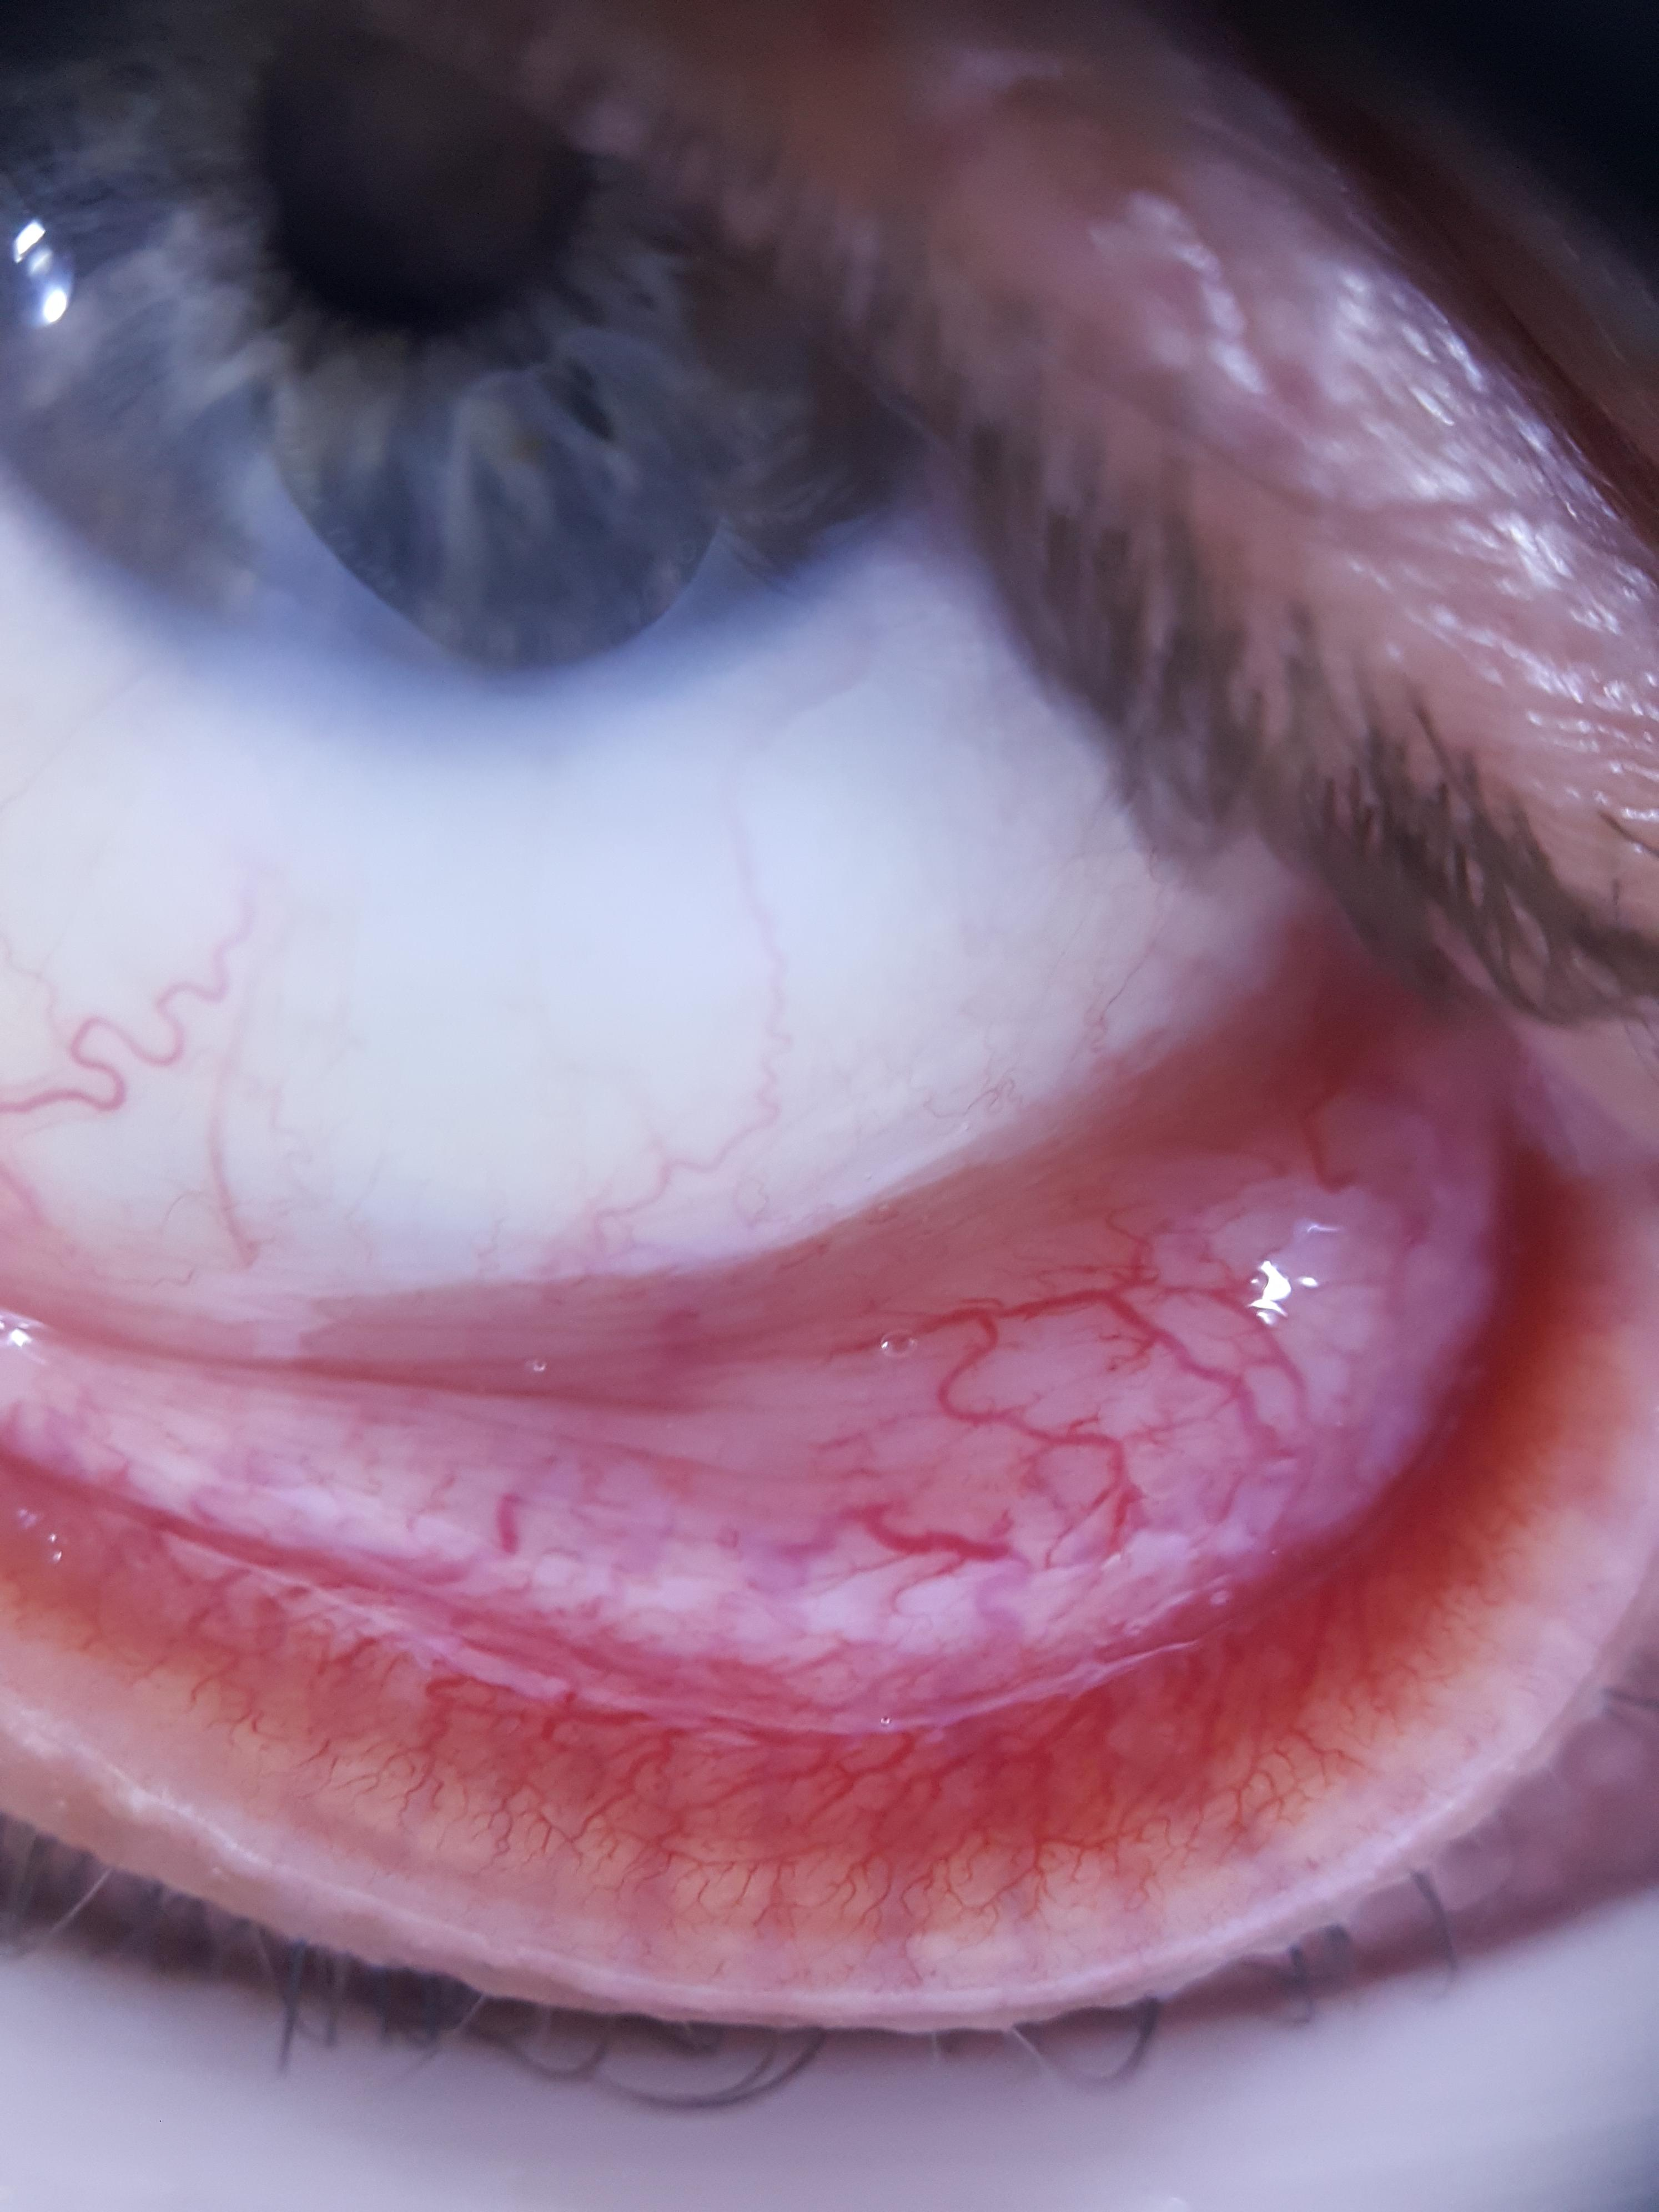forniceal: (0, 941, 1521, 1719)
forniceal_palpebral: (0, 907, 1575, 1907)
palpebral: (0, 1141, 1565, 1897)
